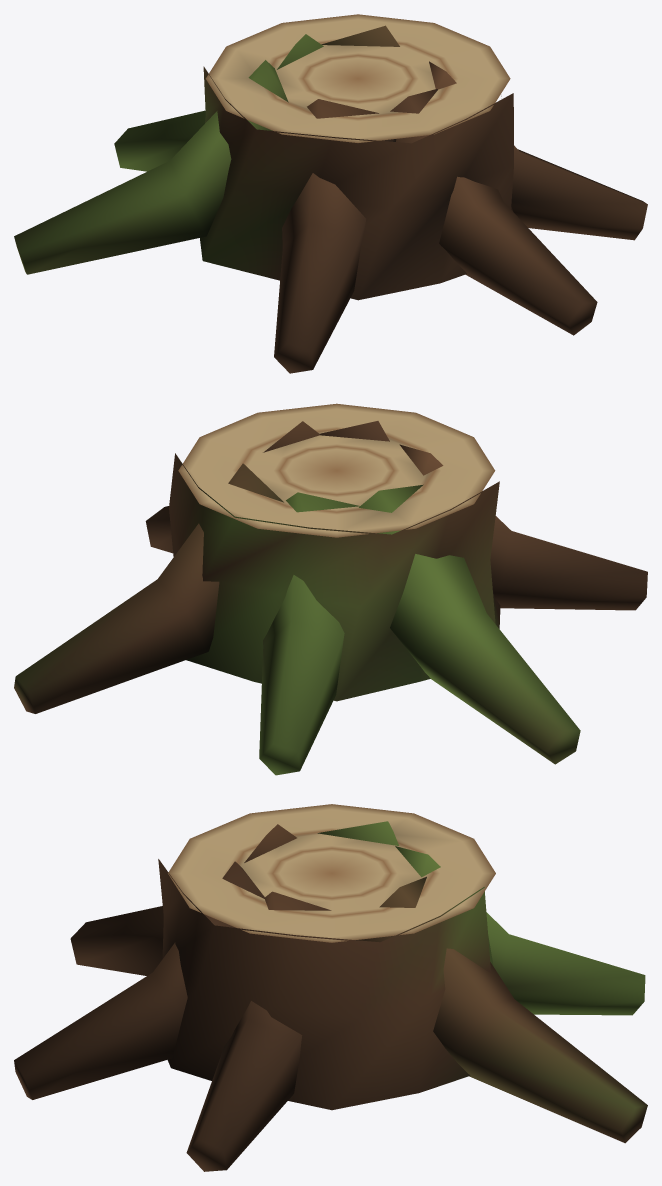
Rendered from tree-big-stump.glb.
The picture shows the model from 3 angles, top to bottom: view 1: azimuth 30°, elevation 25°; view 2: azimuth 150°, elevation 25°; view 3: azimuth 270°, elevation 25°; orthographic projection. The views are drawn at different scales.
Parts seen in each view (by area): view 1: 0_stump; view 2: 0_stump; view 3: 0_stump.
Part boxes in pixels (<box>): 0_stump: <box>14,14,647,373</box>; 0_stump: <box>14,403,647,775</box>; 0_stump: <box>14,804,647,1171</box>.
Size of the model in its own units: 3 by 1.03 by 2.93.
